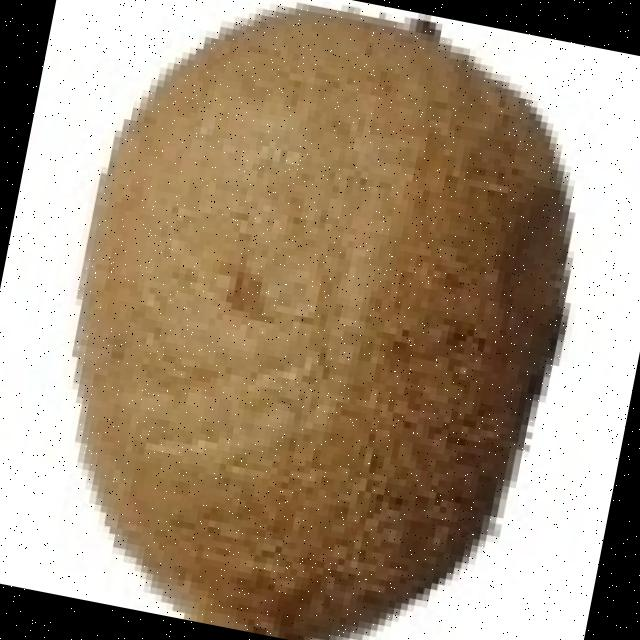kiwi: (73, 0, 559, 628)
